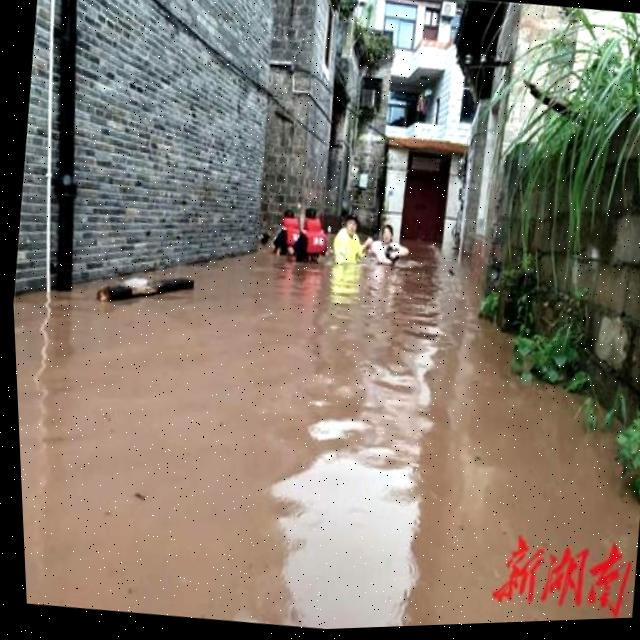civilian: (362, 213, 421, 281)
rescuer: (286, 194, 338, 271), (265, 201, 308, 267), (332, 205, 368, 272)
